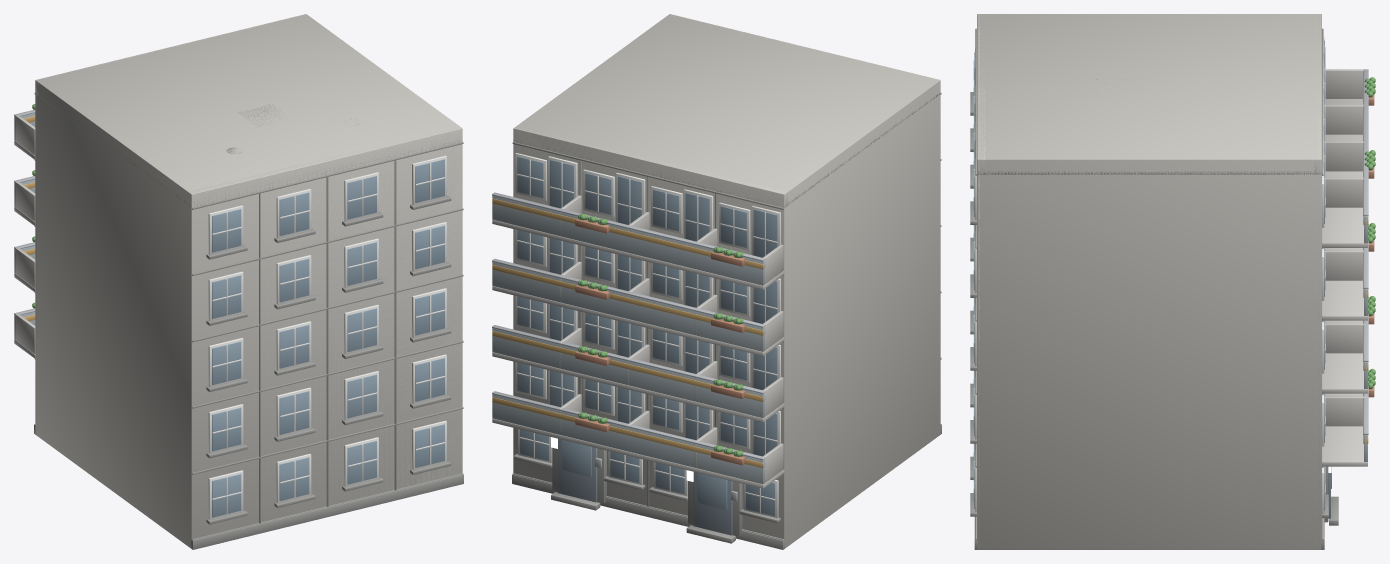
File: th22_plattenbau_modul.glb
The picture shows the model from 3 angles, left to right: view 1: azimuth 30°, elevation 25°; view 2: azimuth 150°, elevation 25°; view 3: azimuth 270°, elevation 25°; orthographic projection. The views are drawn at different scales.
Visible parts, largest first — view 1: Cube, Cube.002, Cube.004, Cube.327, Cube.246, Cube.266, Cube.271, Cube.306, Cube.226, Cube.231, Cube.286, Cube.251 (+26 smaller); view 2: Cube, Cube.001, Cube.150, Cube.108, Cube.066, Cube.024, Cube.003, Cube.065, Cube.023, Cube.107, Cube.149, Cube.192 (+55 smaller); view 3: Cube, Cube.149, Cube.065, Cube.023, Cube.107, Cube.030, Cube.072, Cube.114, Cube.154, Cube.155, Cube.156, Cube.153 (+4 smaller).
Boxes of the visible parts, left/top/right/bottom form: Cube: left=35, top=14, right=462, bottom=547; Cube.002: left=190, top=127, right=462, bottom=523; Cube.004: left=190, top=474, right=463, bottom=549; Cube.327: left=188, top=127, right=462, bottom=204; Cube.246: left=212, top=407, right=241, bottom=451; Cube.266: left=212, top=341, right=241, bottom=384; Cube.271: left=279, top=325, right=309, bottom=368; Cube.306: left=212, top=209, right=241, bottom=252; Cube.226: left=212, top=474, right=241, bottom=517; Cube.231: left=279, top=457, right=309, bottom=500; Cube.286: left=212, top=275, right=241, bottom=318; Cube.251: left=279, top=391, right=309, bottom=434; Cube: left=513, top=14, right=940, bottom=548; Cube.001: left=513, top=127, right=784, bottom=537; Cube.150: left=492, top=195, right=764, bottom=285; Cube.108: left=492, top=261, right=764, bottom=351; Cube.066: left=492, top=328, right=764, bottom=418; Cube.024: left=492, top=394, right=764, bottom=484; Cube.003: left=512, top=474, right=784, bottom=549; Cube.065: left=492, top=352, right=784, bottom=422; Cube.023: left=492, top=418, right=784, bottom=488; Cube.107: left=492, top=286, right=784, bottom=356; Cube.149: left=492, top=220, right=784, bottom=289; Cube.192: left=693, top=472, right=732, bottom=535; Cube: left=977, top=14, right=1321, bottom=549; Cube.149: left=1322, top=99, right=1367, bottom=247; Cube.065: left=1322, top=320, right=1367, bottom=393; Cube.023: left=1322, top=393, right=1367, bottom=466; Cube.107: left=1322, top=248, right=1367, bottom=320; Cube.030: left=1325, top=396, right=1367, bottom=426; Cube.072: left=1325, top=323, right=1366, bottom=353; Cube.114: left=1325, top=250, right=1363, bottom=280; Cube.154: left=1325, top=104, right=1363, bottom=134; Cube.155: left=1325, top=141, right=1363, bottom=171; Cube.156: left=1325, top=177, right=1363, bottom=207; Cube.153: left=1325, top=69, right=1363, bottom=98.
Size of the model in its own units: 12 by 15 by 14.11.
